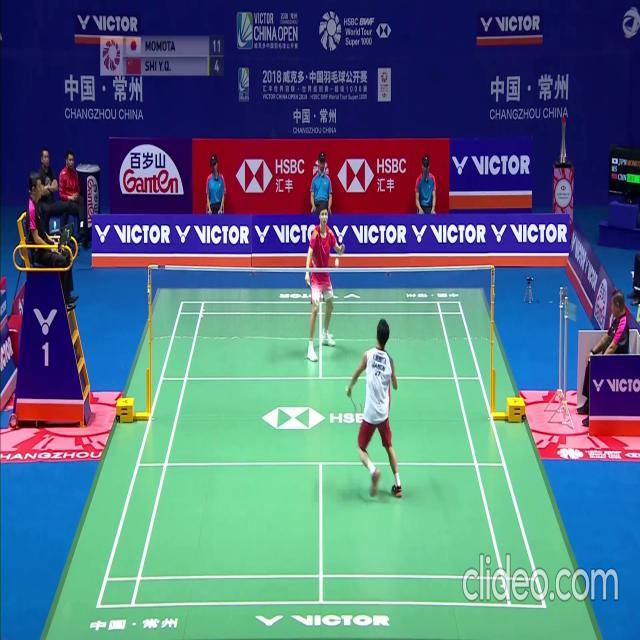Shuttlecock: (334, 259, 339, 266)
